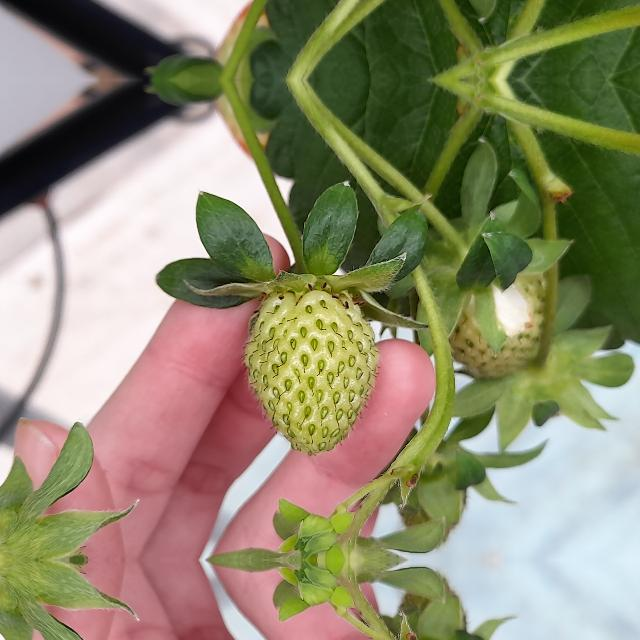Health_25: (244, 289, 378, 455)
